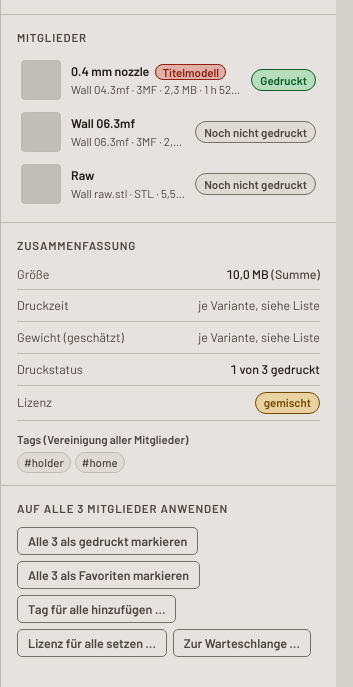
Test: BundlePanel queue › asks "Which variant?" for variants and queues only the chosen one
(page scrolled)
Step 1. Click the button "Zur Warteschlange …" → (242, 643), box 173,629 -> 311,657
(page scrolled)
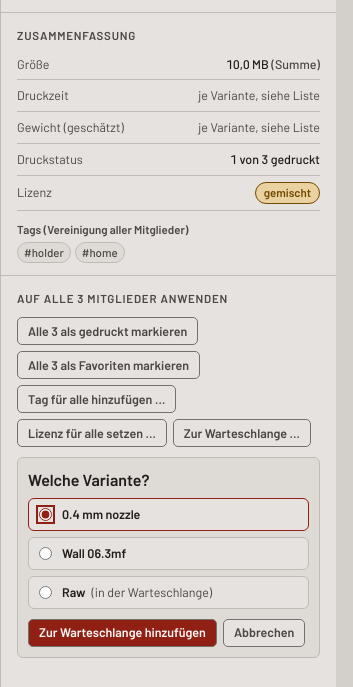
Result: the number of radio buttons is 3
Result: the radio button labelled "0.4 mm nozzle" is checked at 39,508 -> 52,521
# A variant that is queued already says so and cannot be queued twice.
Step 2. Click the radio button labelled "Raw(in der Warteschlange)" → (46, 592), box 39,586 -> 52,599
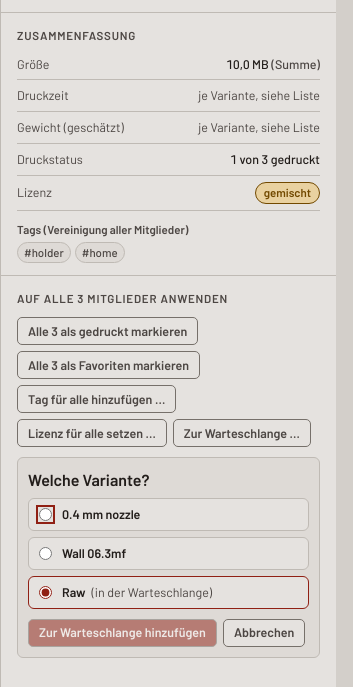
Result: the text "(in der Warteschlange)" is shown at 92,584 -> 212,600
Result: the button "Zur Warteschlange hinzufügen" is disabled at 28,619 -> 217,647
Step 3. Click the radio button labelled "Wall 06.3mf" → (46, 554), box 39,547 -> 52,560
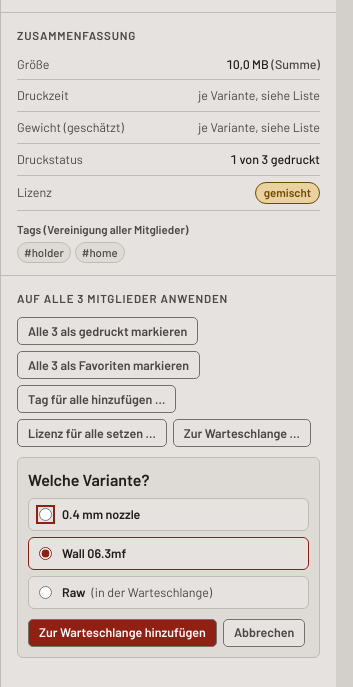
Step 4. Click the button "Zur Warteschlange hinzufügen" → (122, 633), box 28,619 -> 217,647
(page scrolled)
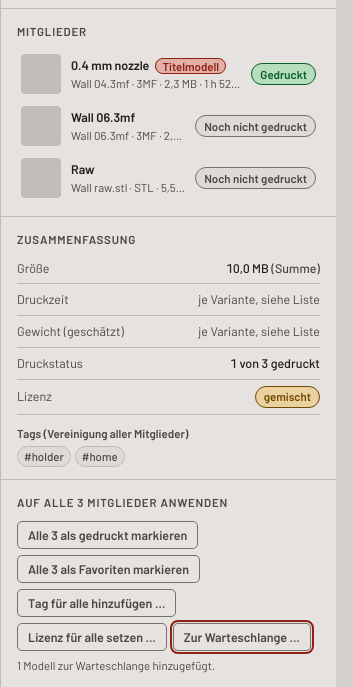
Result: the message reads "1 Modell zur Warteschlange hinzugefügt." at 17,658 -> 215,672
Result: the text "Welche Variante?" is gone
